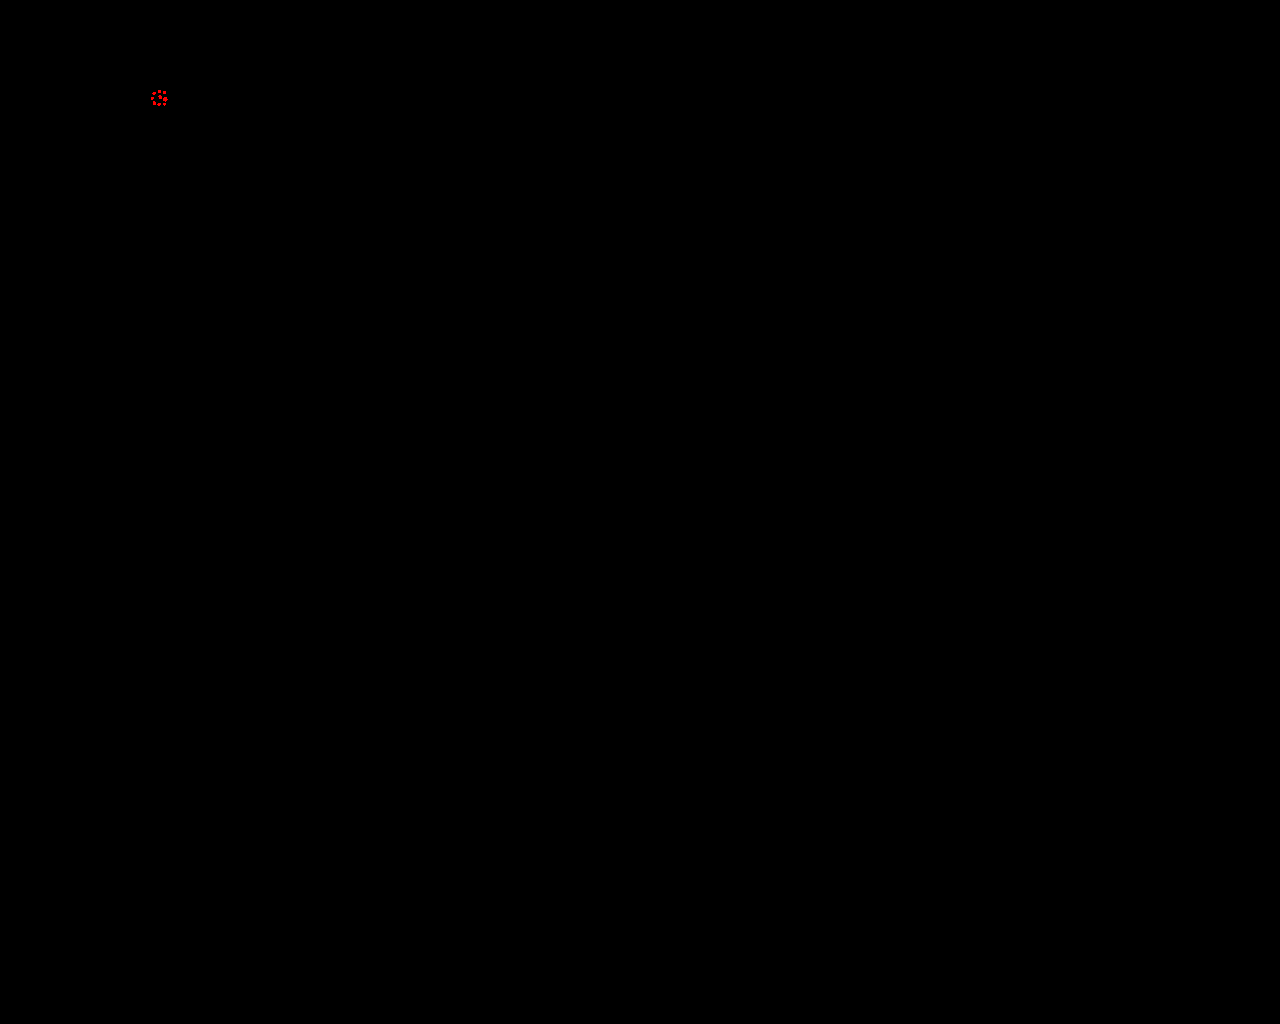Target: (163, 97, 168, 102), (158, 95, 162, 99), (152, 92, 156, 95), (158, 90, 161, 93), (163, 91, 166, 94), (153, 101, 156, 104), (157, 103, 161, 106), (152, 97, 154, 100), (163, 103, 166, 106)
